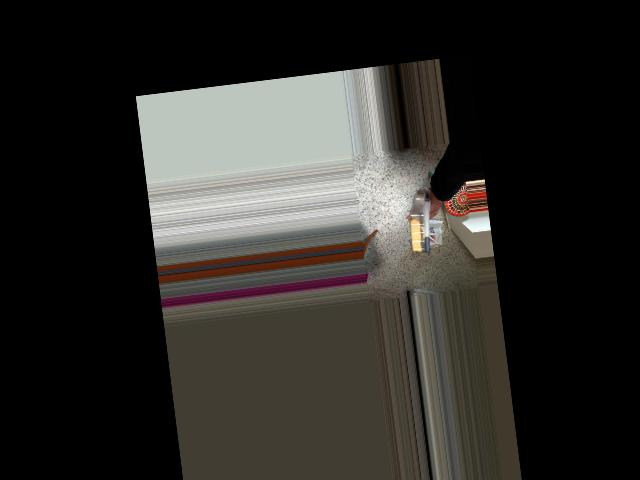cheese: (389, 197, 470, 257)
